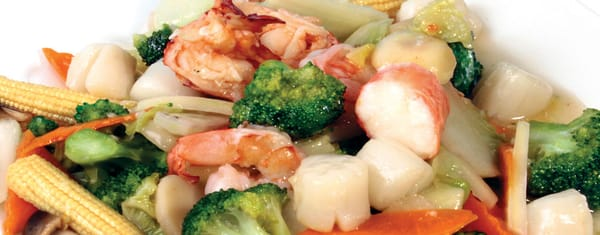curry: (229, 58, 346, 138), (525, 108, 600, 214), (181, 182, 291, 233), (447, 40, 483, 96), (133, 23, 175, 63), (74, 98, 132, 123)
